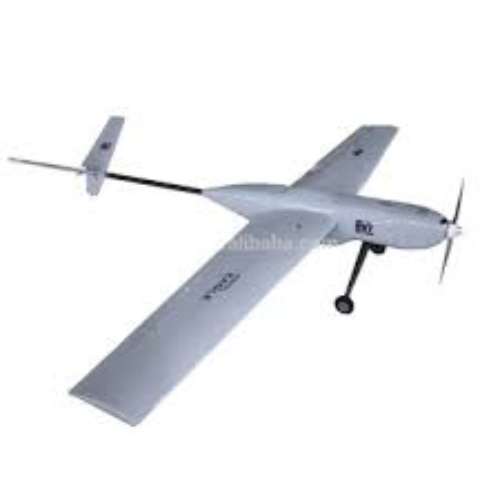uav740: (4, 116, 474, 428)
